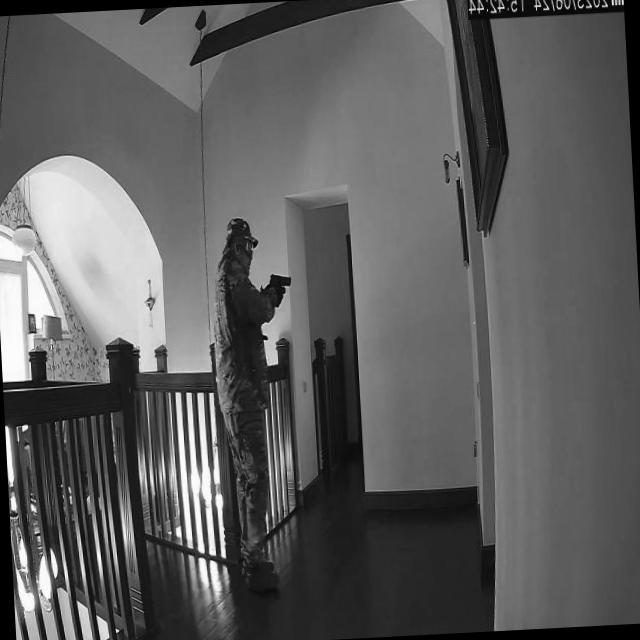gun: (264, 267, 293, 306)
person with a gun: (210, 214, 284, 584)
